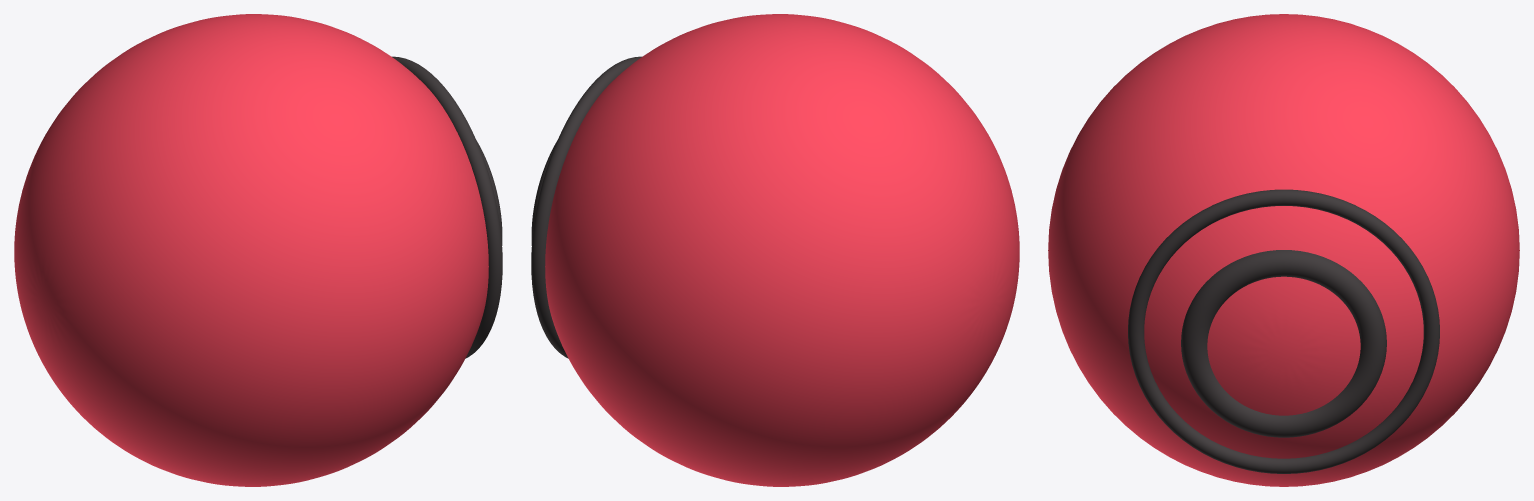
The model's file is enemy2_around.fbx.
3 renders of one model, left to right at view 1: azimuth 30°, elevation 25°; view 2: azimuth 150°, elevation 25°; view 3: azimuth 270°, elevation 25°, orthographic.
Visible parts, largest first — view 1: enemy2_around_center, enemy2_around_eye; view 2: enemy2_around_center, enemy2_around_eye; view 3: enemy2_around_center, enemy2_around_eye.
Part boxes in pixels (x1=…): enemy2_around_center: x1=14, y1=14, x2=488, y2=486; enemy2_around_eye: x1=392, y1=56, x2=502, y2=358; enemy2_around_center: x1=545, y1=14, x2=1019, y2=486; enemy2_around_eye: x1=531, y1=56, x2=641, y2=358; enemy2_around_center: x1=1048, y1=14, x2=1519, y2=486; enemy2_around_eye: x1=1128, y1=189, x2=1439, y2=473.
Bounding box in the file's own units: 79.87 × 78.47 × 78.47.
2 materials, 2 textured.
